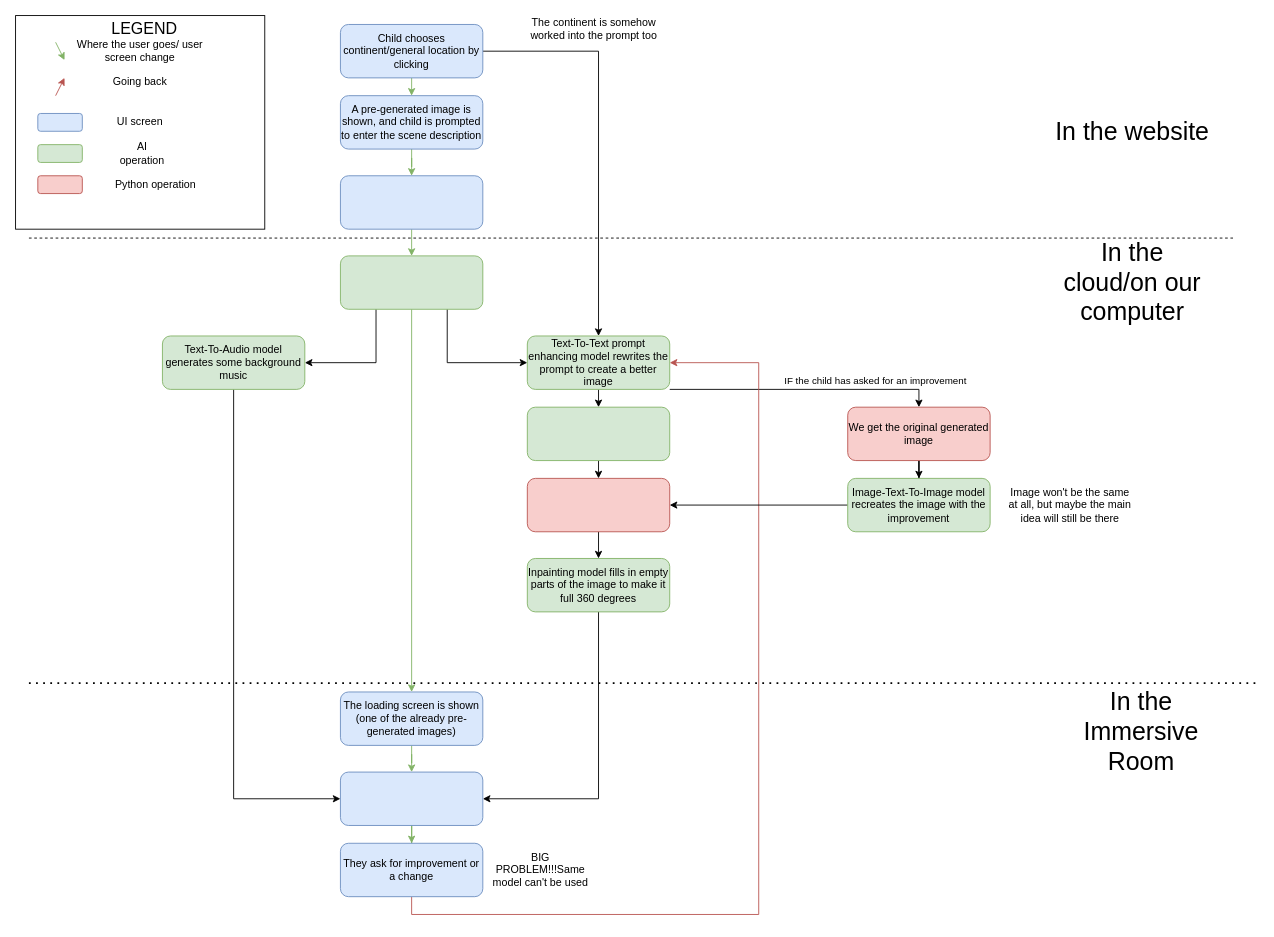
This 1274x937 diagram has some shape labels left out. The shapes that lost their labels are listed below. From the top down, each one's box as (x1, y1, x2, y2) in pixels, then its label:
(340, 175, 483, 229): The child speaks the prompt (Eg. Waterfall in the forest)
(340, 255, 483, 309): Voice-To-Text model captures the child's request
(526, 406, 670, 461): Text-To-Image model creates the image
(526, 477, 670, 532): Image is preprocessed for the next model (ask me about it)
(340, 771, 483, 825): The child is shown the newly generated image and can look around
